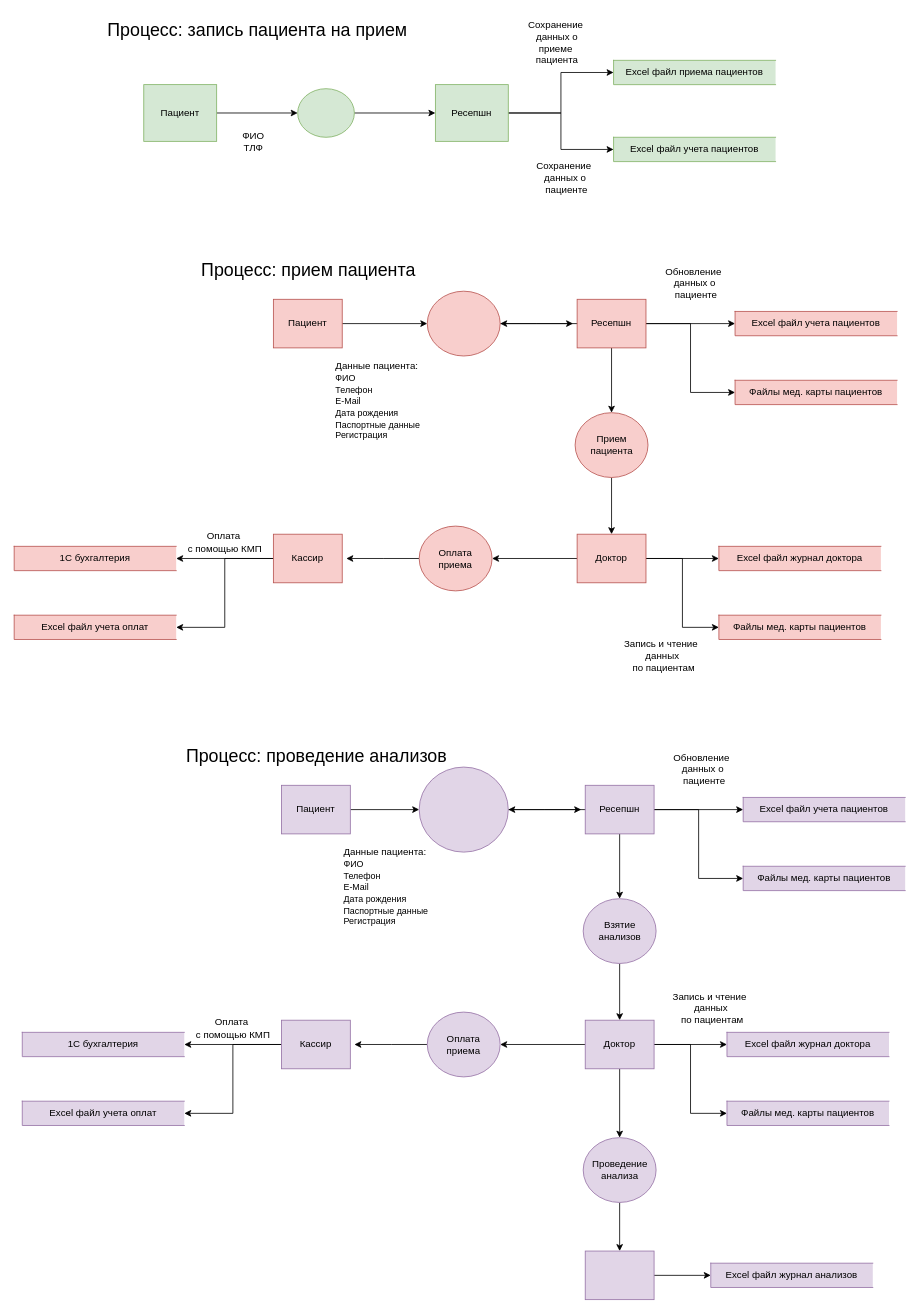
Some shapes in this 919 by 1314 pixel diagram are drawn without their labels. The shapes that lost their labels are listed below. From the top down, each one's box as (x1, y1, x2, y2) in pixels, then its label:
(297, 88, 354, 137): Запись на примем
(426, 290, 500, 356): Оформление документов
(418, 766, 508, 852): Оформление документов на взятие биоматериала
(584, 1250, 654, 1300): Лаборатория
